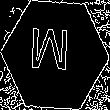M_S: (33, 28, 77, 82)
